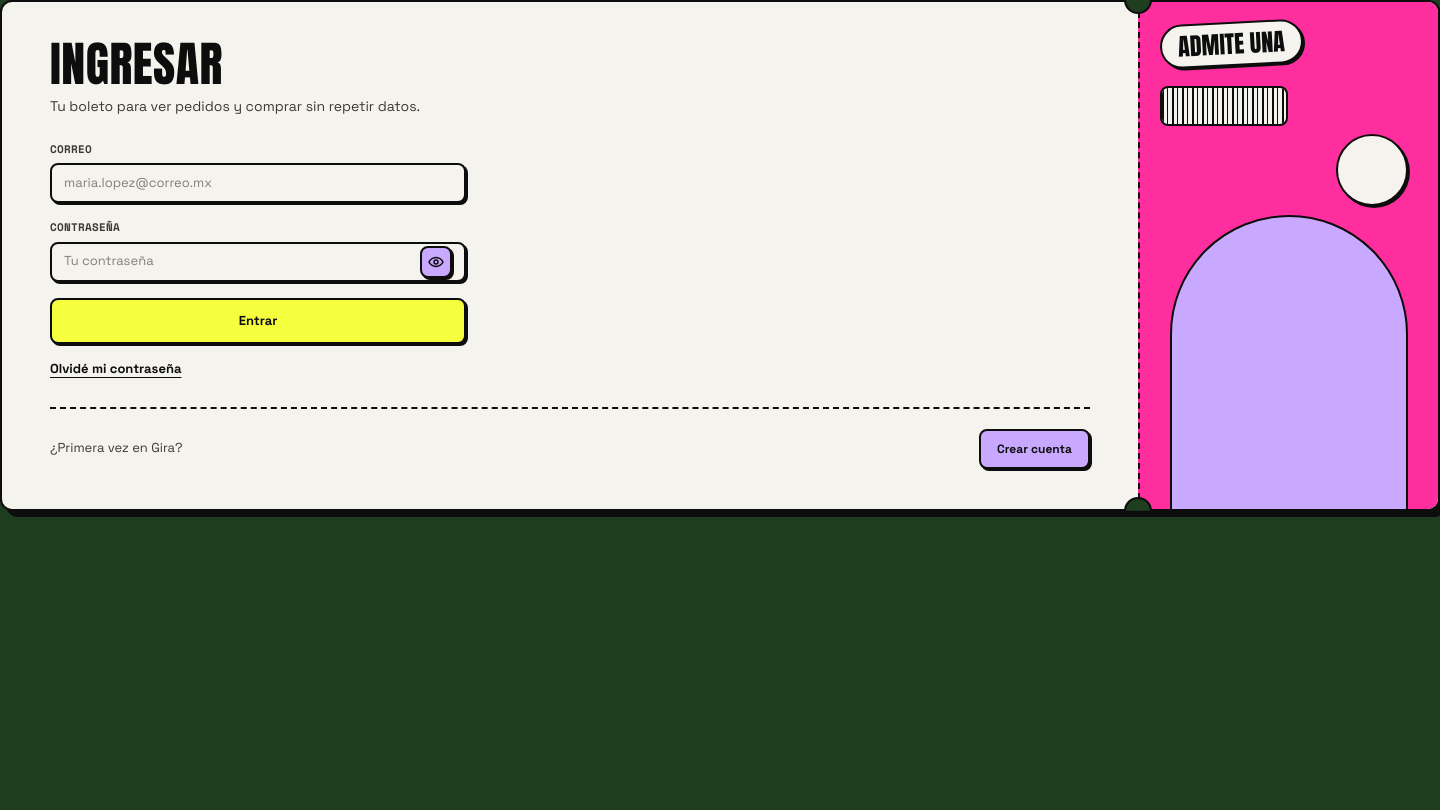
it: CustomerLoginForm › 429: texto propio de demasiados intentos
Type "maria@correo.mx" into the field labelled "Correo". click: (258, 183)
box: [64,174,452,192]
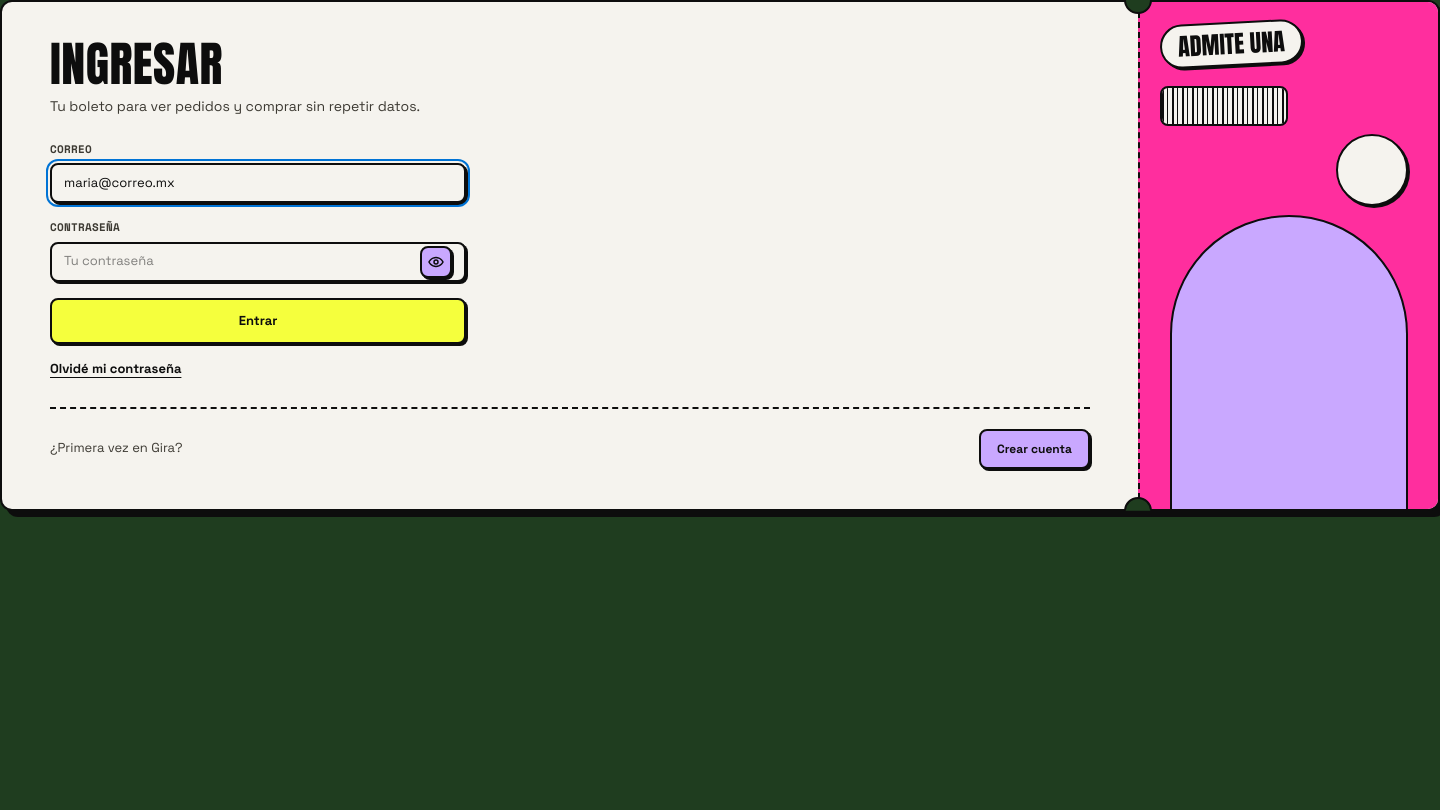
Type "Gira2026xyz" into the password field labelled "Contraseña". click: (238, 262)
box: [64,252,412,271]
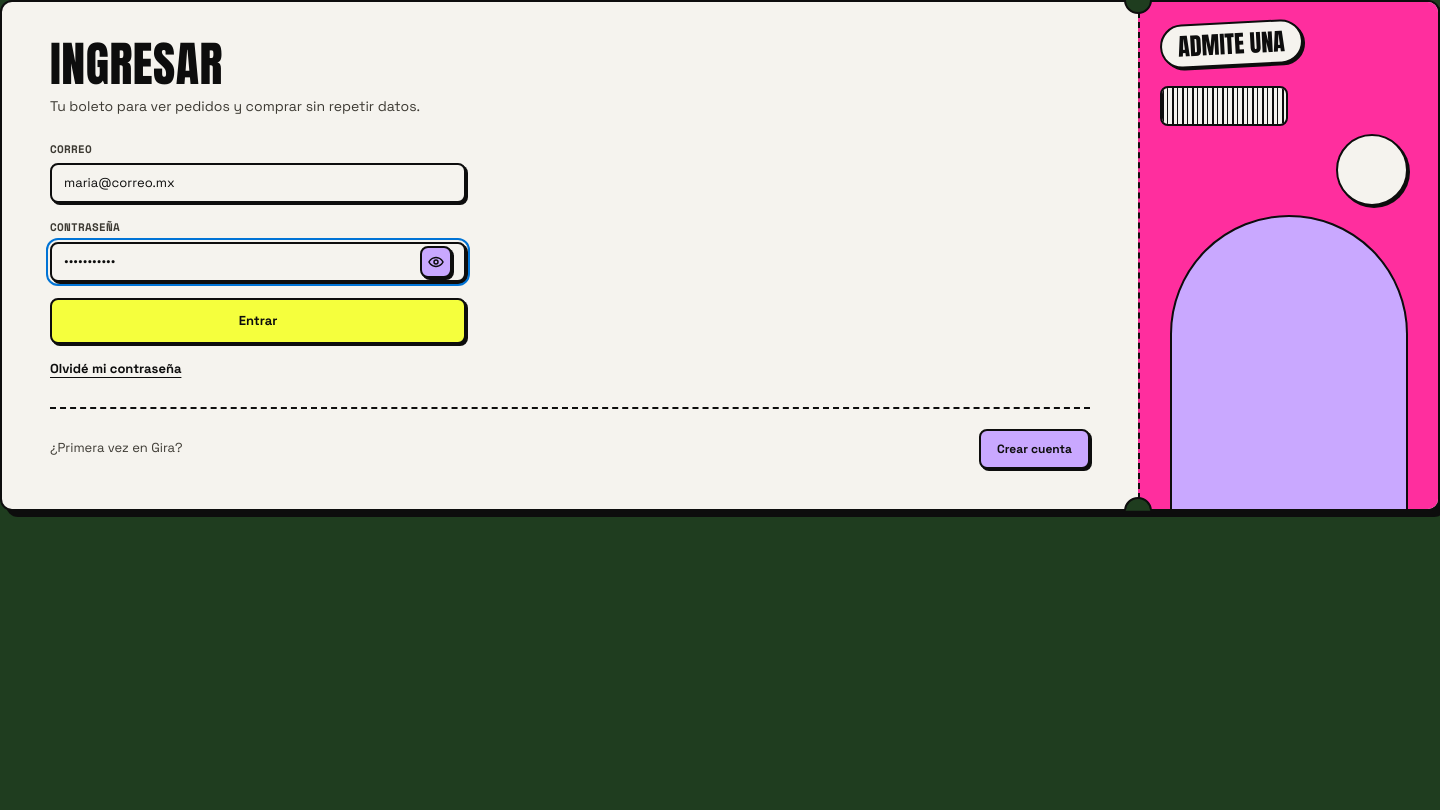
Click the button "Entrar". click: (258, 321)
box: [50,298,466,344]
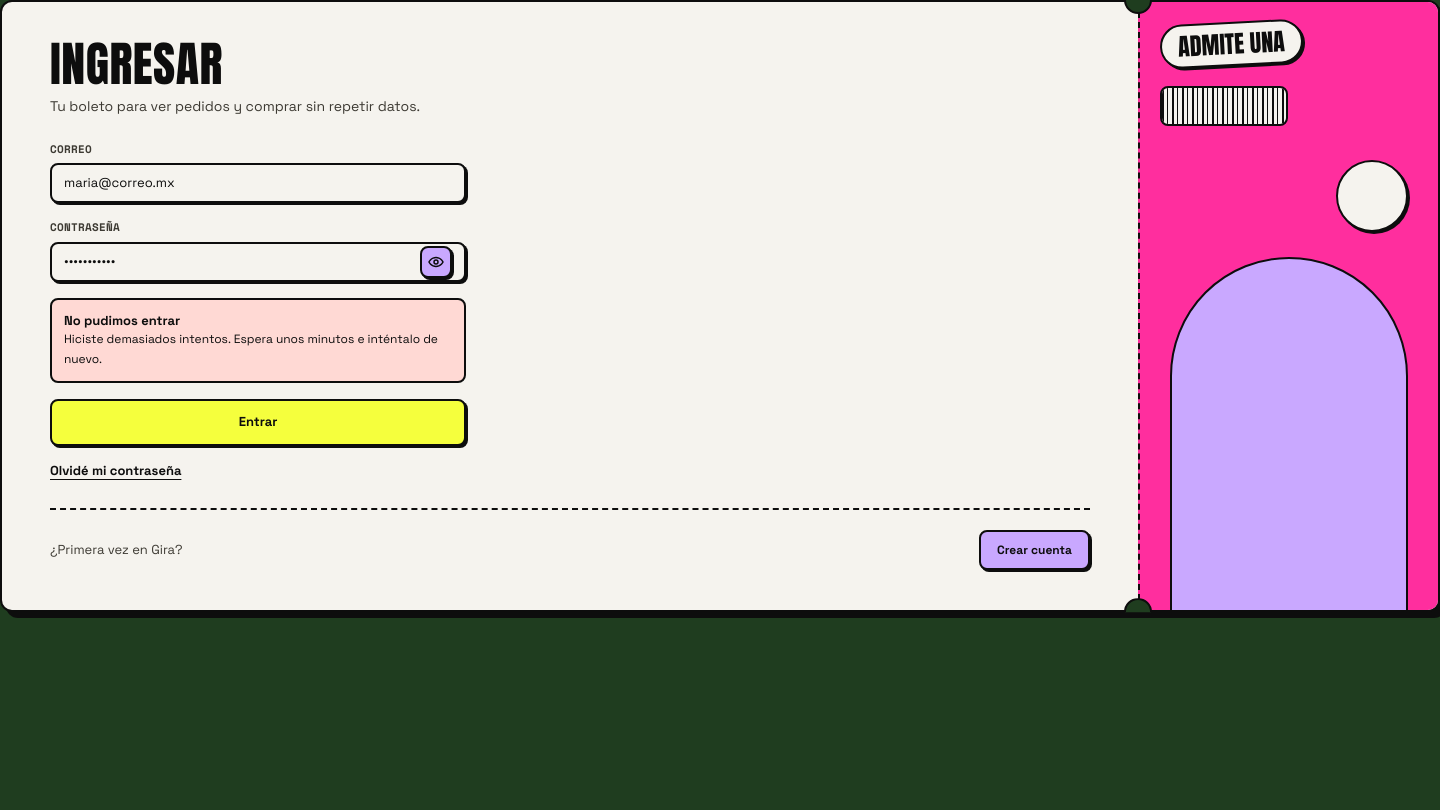
Result: the message shows "Hiciste demasiados intentos." at [64,331,438,367]
